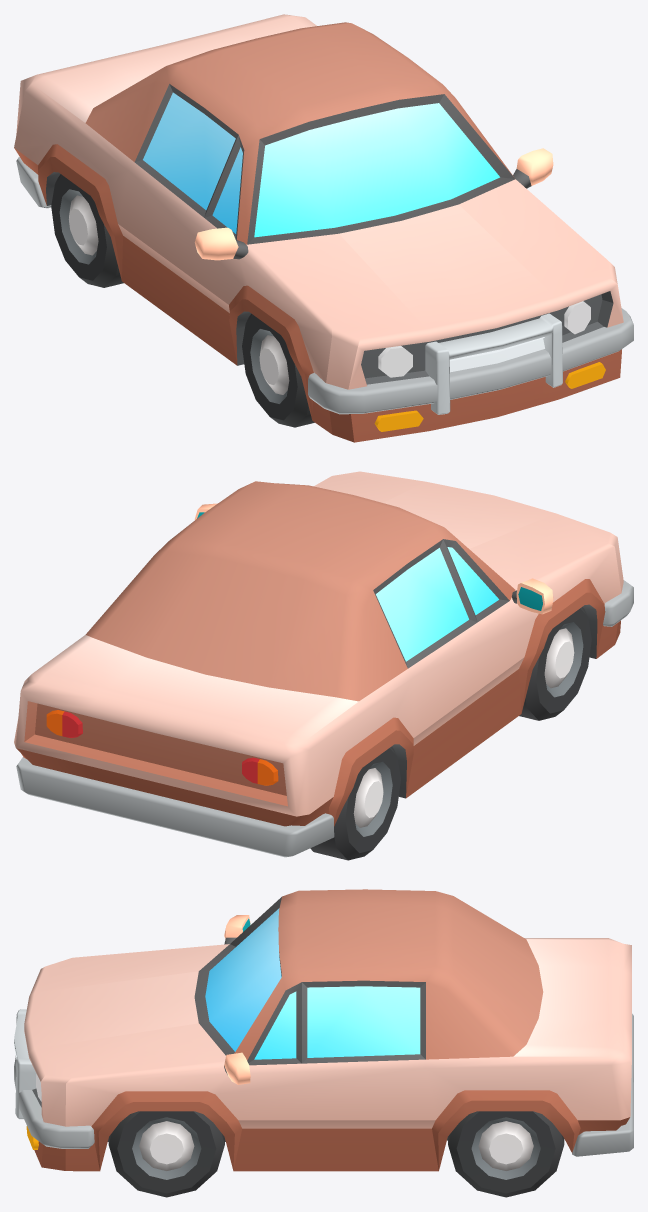
File: Car_19.glb
3 views of the same model, one above another, from view 1: azimuth 30°, elevation 25°; view 2: azimuth 150°, elevation 25°; view 3: azimuth 270°, elevation 25° (orthographic). The views are drawn at different scales.
Parts seen in each view (by area): view 1: Car_19, Wheel_118, Wheel_117; view 2: Car_19, Wheel_118, Wheel_117; view 3: Car_19, Wheel_119, Wheel_120.
Boxes of the visible parts, <box> form: Car_19: <box>14,14,633,442</box>; Wheel_118: <box>51,174,123,287</box>; Wheel_117: <box>242,313,314,427</box>; Car_19: <box>14,471,633,857</box>; Wheel_118: <box>310,746,400,860</box>; Wheel_117: <box>519,607,591,720</box>; Car_19: <box>14,889,633,1171</box>; Wheel_119: <box>108,1111,224,1197</box>; Wheel_120: <box>448,1111,564,1197</box>.
Bounding box in the file's own units: 2.65 × 1.73 × 4.52.
2 materials, 2 textured.
